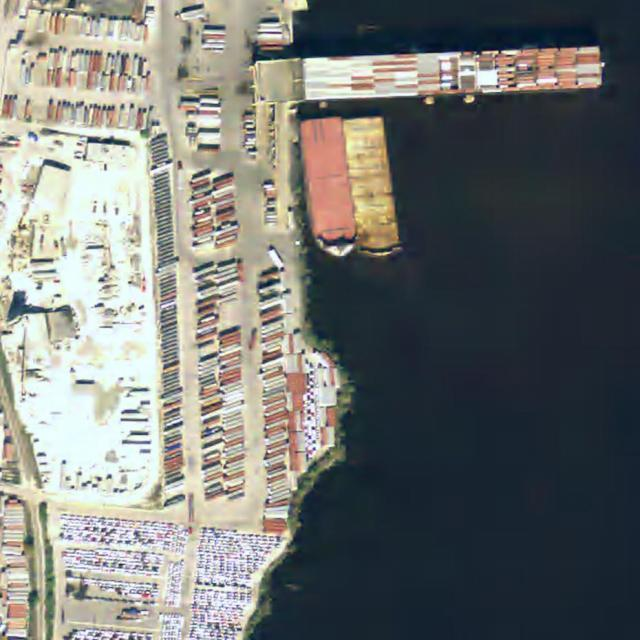Container Ship: (300, 44, 603, 102)
Other Ship: (340, 113, 403, 262), (297, 114, 360, 262)
